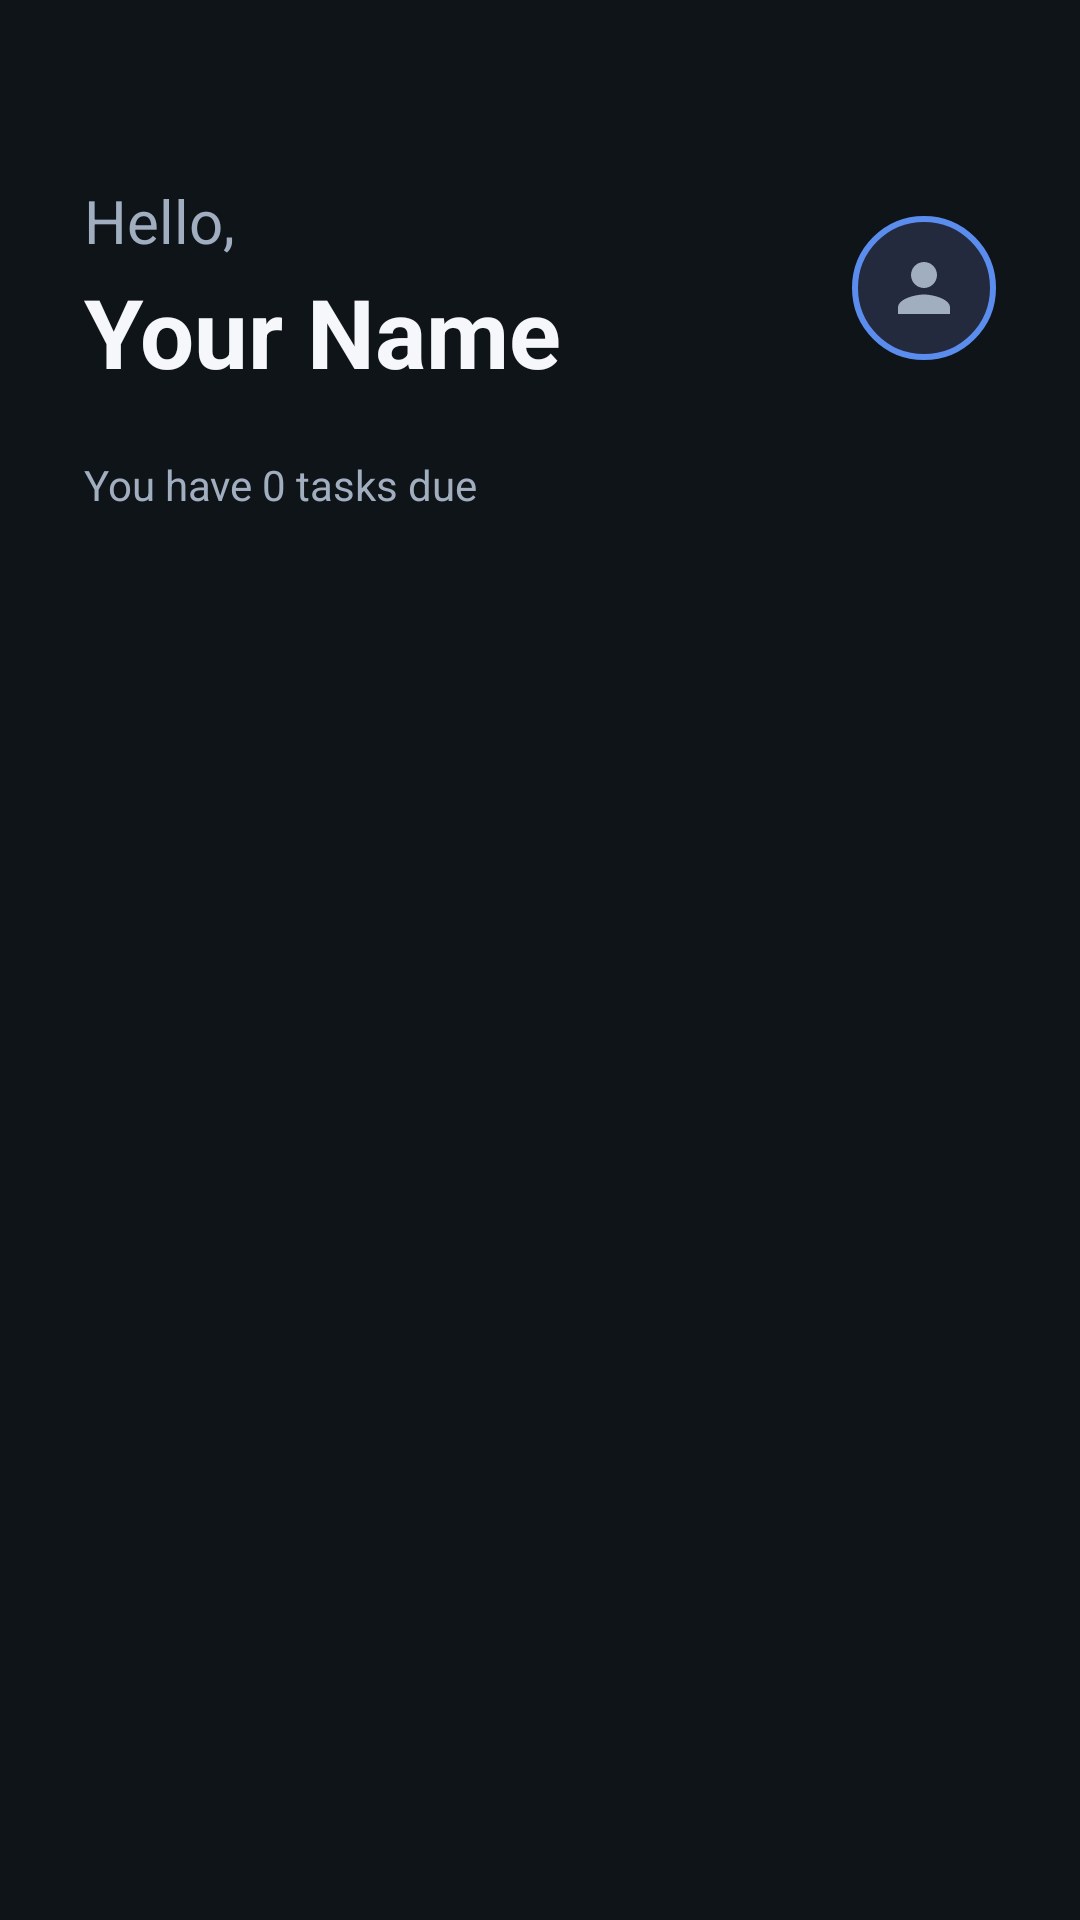

Point at icon controls on the screen. Image size 1080px×1920px, points as (x=x, y=y).
Profile: (x=924, y=288)
